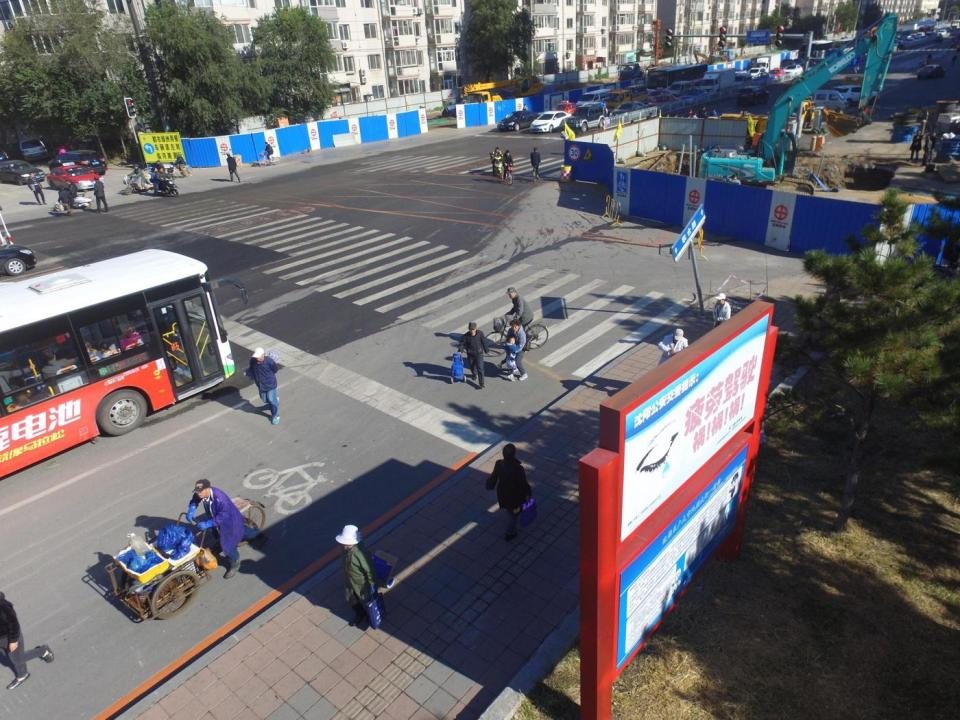bus: (0, 247, 250, 482), (646, 64, 708, 94), (832, 38, 873, 59), (800, 40, 835, 62)
car: (46, 161, 103, 194), (47, 152, 108, 178), (1, 156, 46, 186), (566, 102, 608, 134), (529, 111, 574, 134), (494, 110, 541, 131), (610, 100, 650, 124), (736, 84, 771, 107), (549, 100, 584, 121), (648, 92, 682, 112), (647, 87, 679, 108), (688, 75, 720, 96), (678, 87, 711, 105), (917, 64, 946, 80), (752, 71, 778, 87), (726, 67, 752, 81), (784, 64, 806, 79), (801, 61, 820, 74), (747, 66, 769, 77), (770, 66, 787, 79), (780, 58, 794, 69), (933, 35, 945, 45), (794, 57, 807, 66)
truck: (789, 93, 825, 129), (613, 60, 662, 85), (603, 88, 652, 110), (700, 68, 737, 93), (842, 72, 867, 104), (754, 54, 783, 72), (708, 47, 734, 65)
van: (799, 88, 850, 116), (832, 83, 881, 106), (576, 88, 616, 116), (17, 133, 50, 161), (625, 82, 654, 103), (666, 81, 695, 100), (736, 72, 755, 87)
